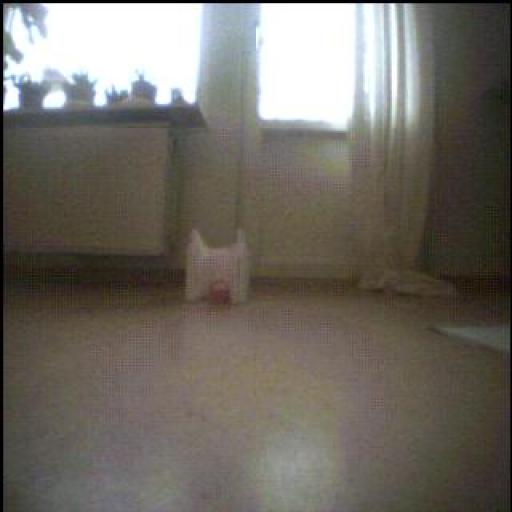Basket: (204, 275, 238, 309)
